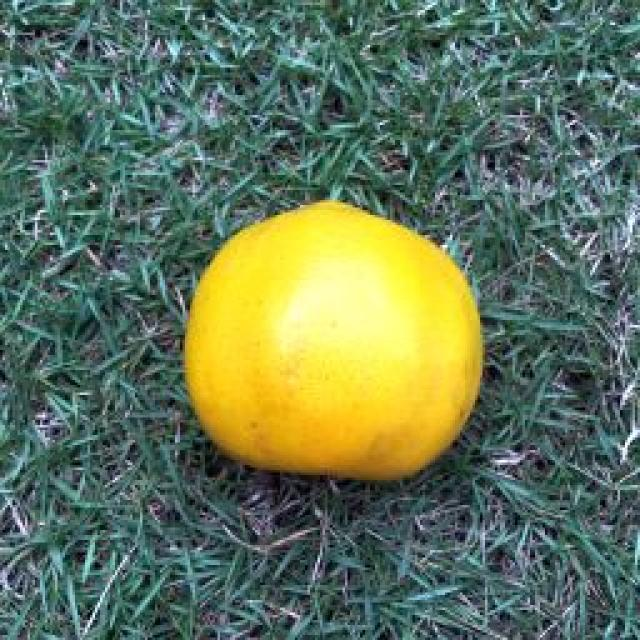Good_Orange: (185, 200, 485, 480)
